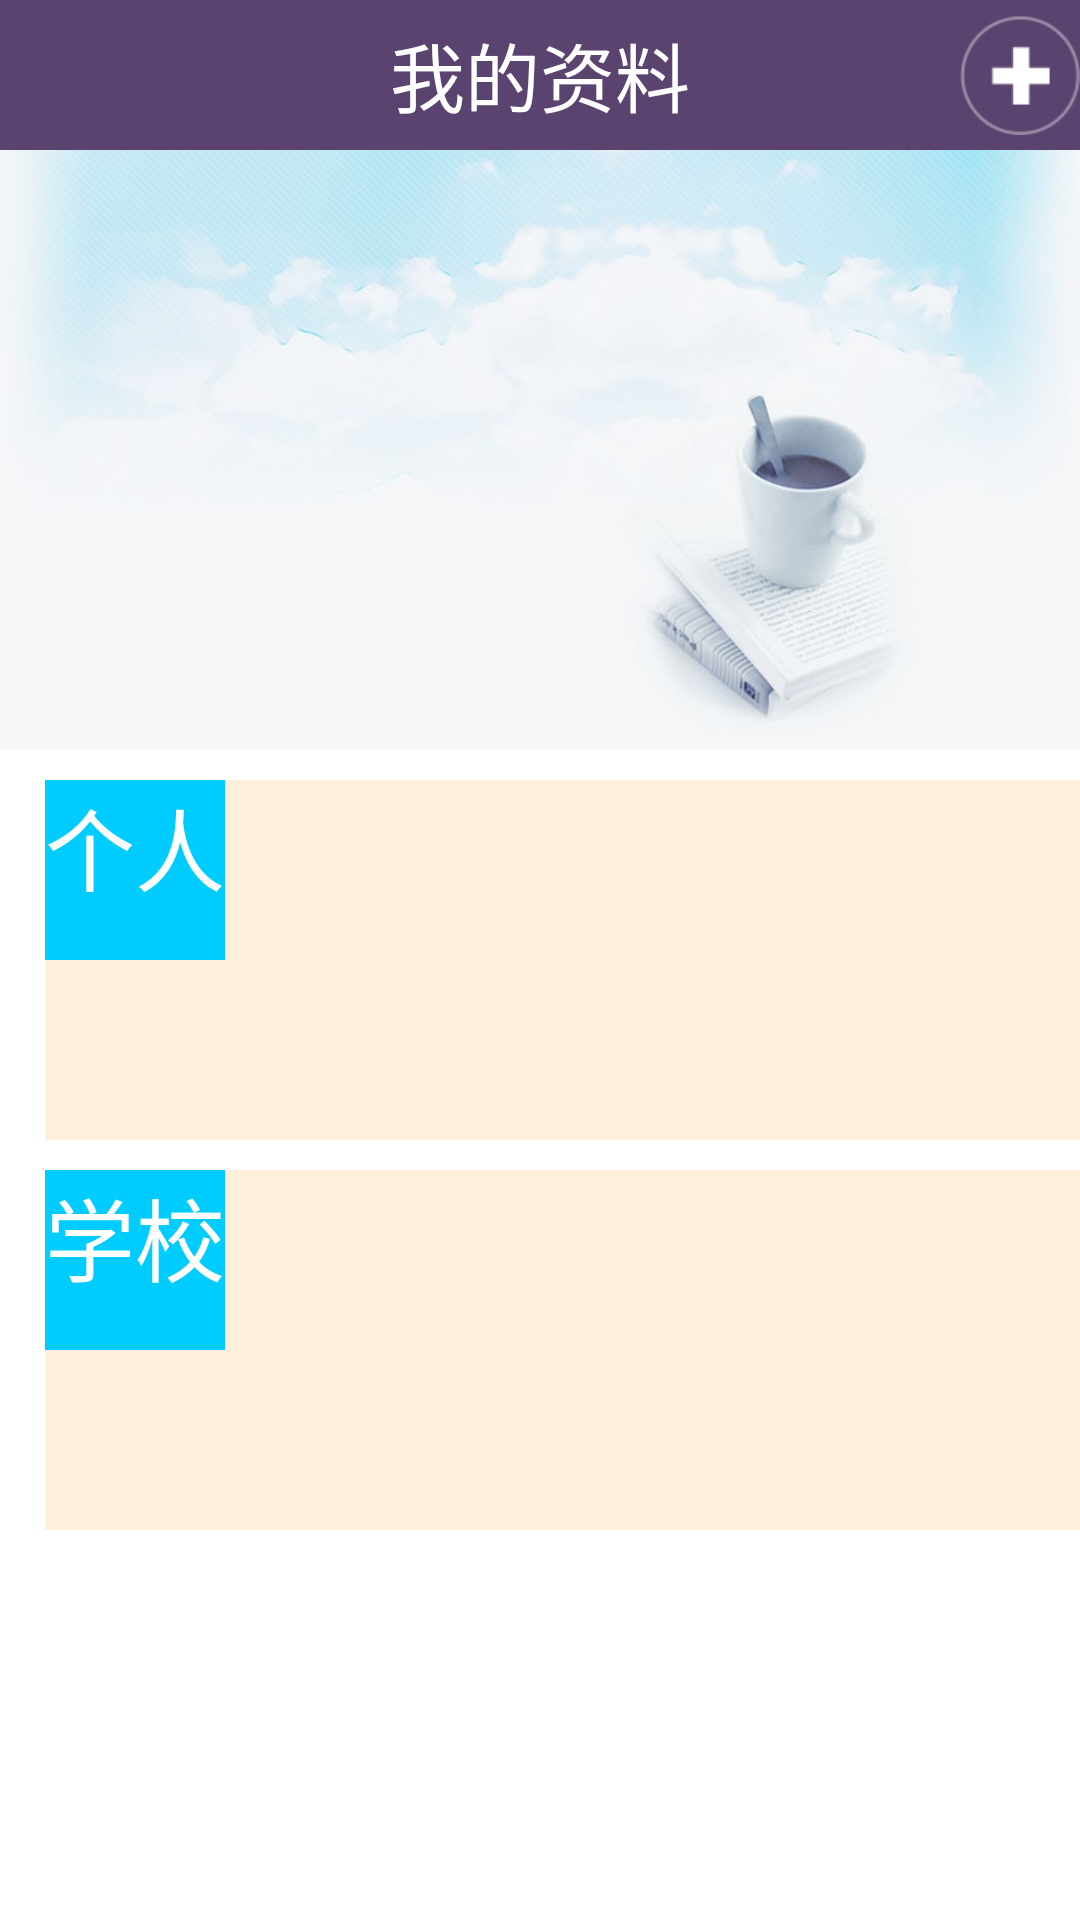

Point at icon controls on the screen. Image size 1080w x 1920h, points as point (x, y).
add: point (1020, 75)
